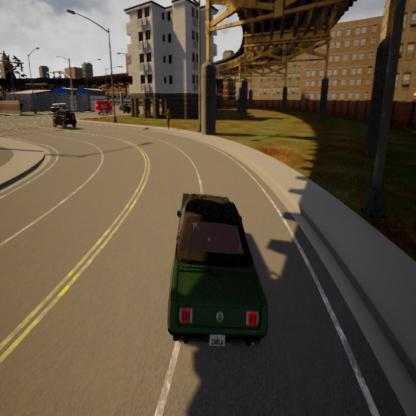Cars: (169, 195, 267, 347), (53, 108, 77, 128), (95, 100, 113, 116), (50, 101, 68, 113)
Pedestrian: (165, 107, 170, 130)
